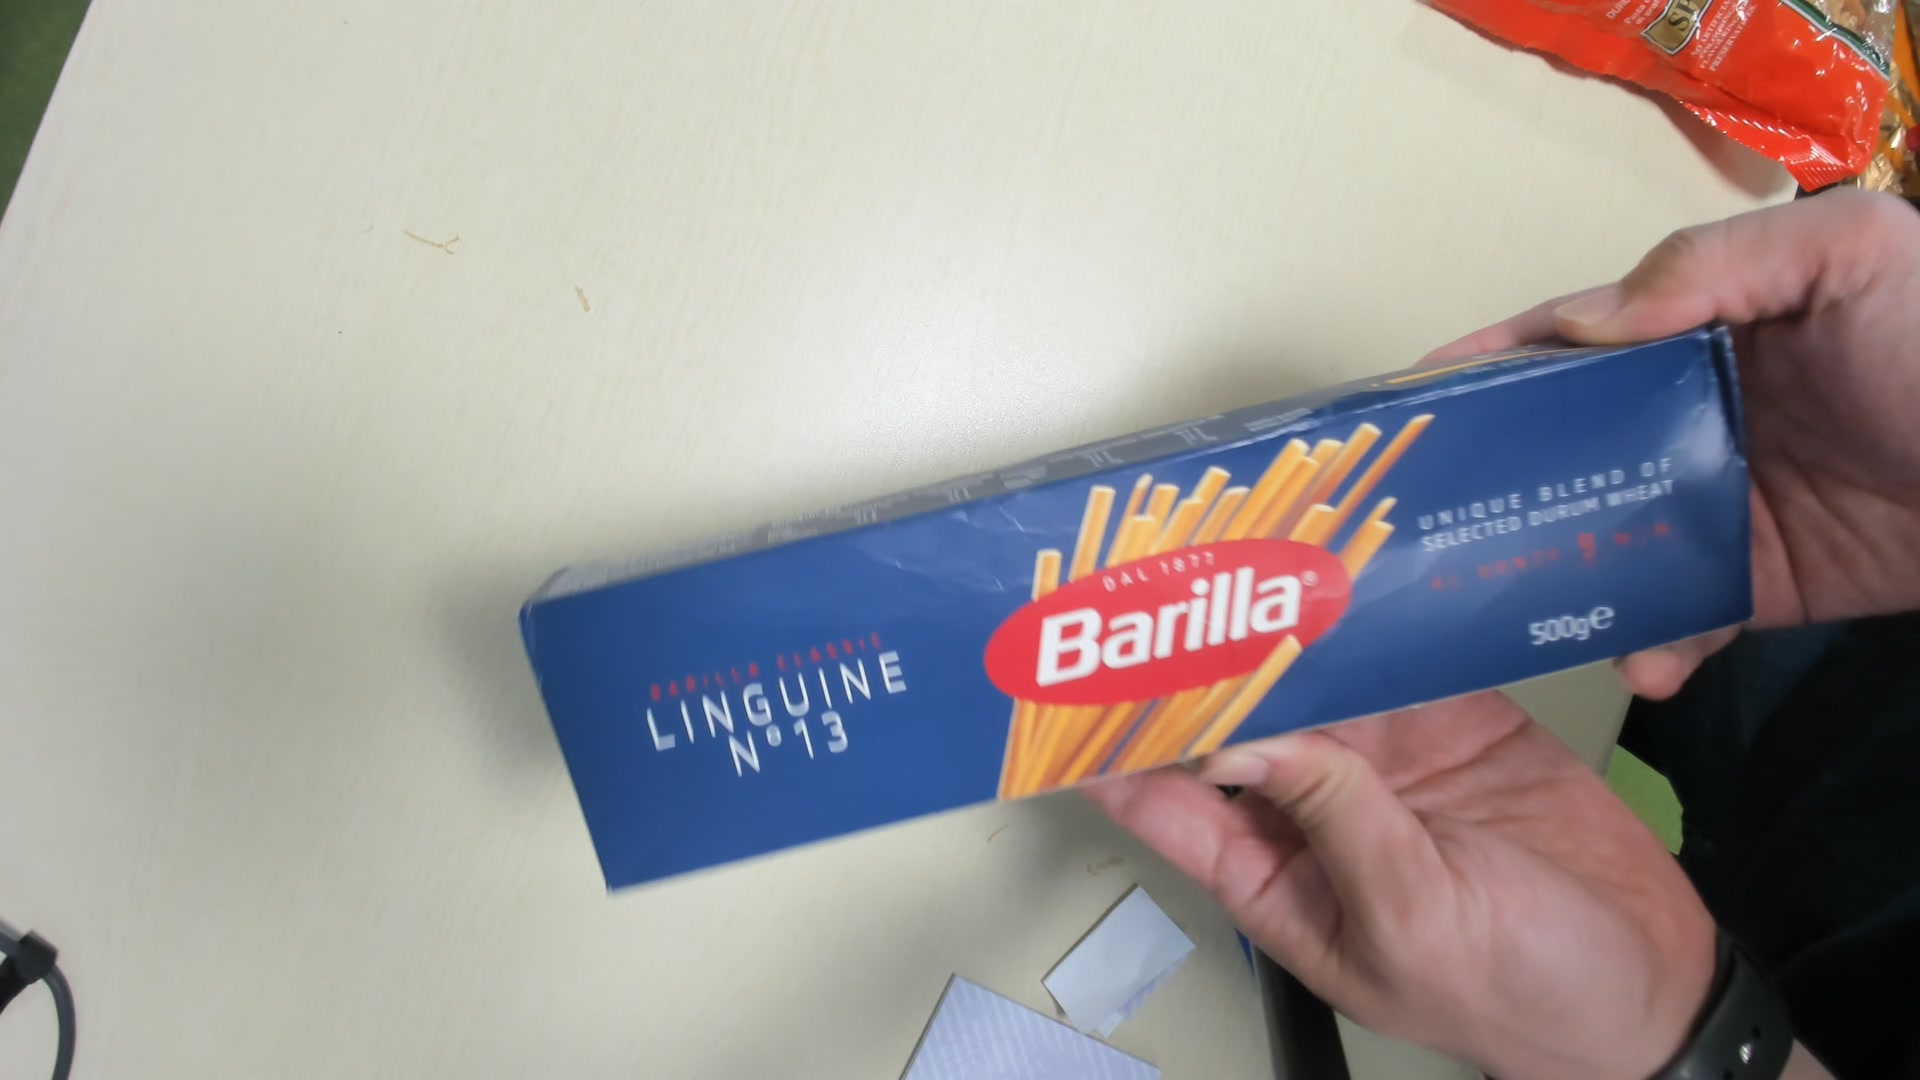Pasta_500-599g_NonHalal_NonHealthy: (516, 327, 1751, 895)
